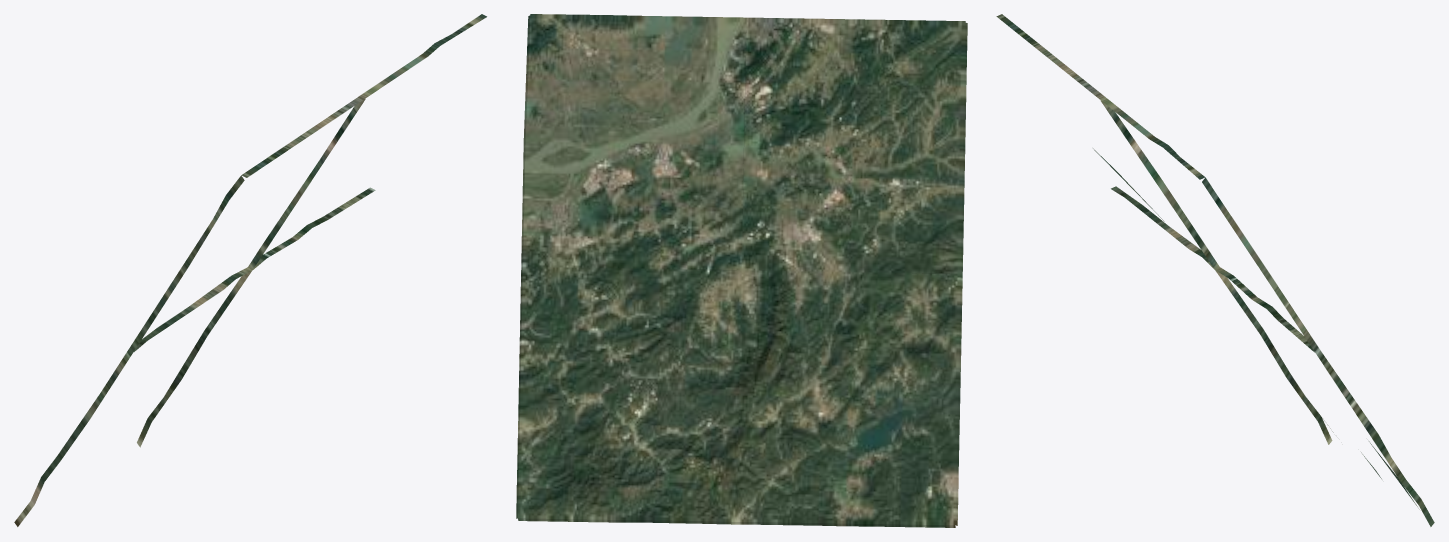
The picture shows the model from 3 angles, left to right: view 1: azimuth 30°, elevation 25°; view 2: azimuth 150°, elevation 25°; view 3: azimuth 270°, elevation 25°; orthographic projection. The views are drawn at different scales.
Size of the model in its own units: 79073 by 68322 by 67722.
1 material, 1 textured.
